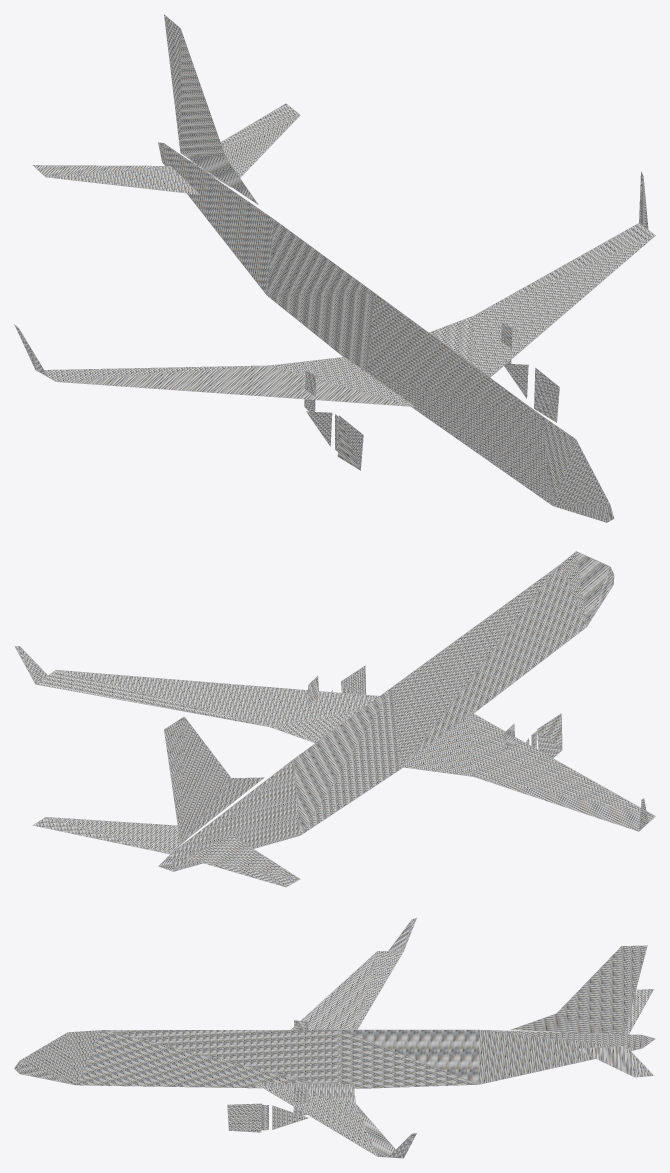
File: AIA_EMB190_sat_MSFS_LOD1.gltf
3 renders of one model, top to bottom at view 1: azimuth 30°, elevation 25°; view 2: azimuth 150°, elevation 25°; view 3: azimuth 270°, elevation 25°, orthographic. The views are drawn at different scales.
Parts seen in each view (by area): view 1: node1; view 2: node1; view 3: node1, node44_anim_custom_anim_REV_THRUST.
Boxes of the visible parts, <box> form: node1: <box>14,14,655,522</box>; node1: <box>14,551,655,887</box>; node1: <box>14,918,655,1158</box>; node44_anim_custom_anim_REV_THRUST: <box>293,1020,308,1116</box>.
Bounding box in the file's own units: 28.7 × 9.48 × 36.15.
